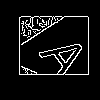A: (38, 27, 100, 82)
